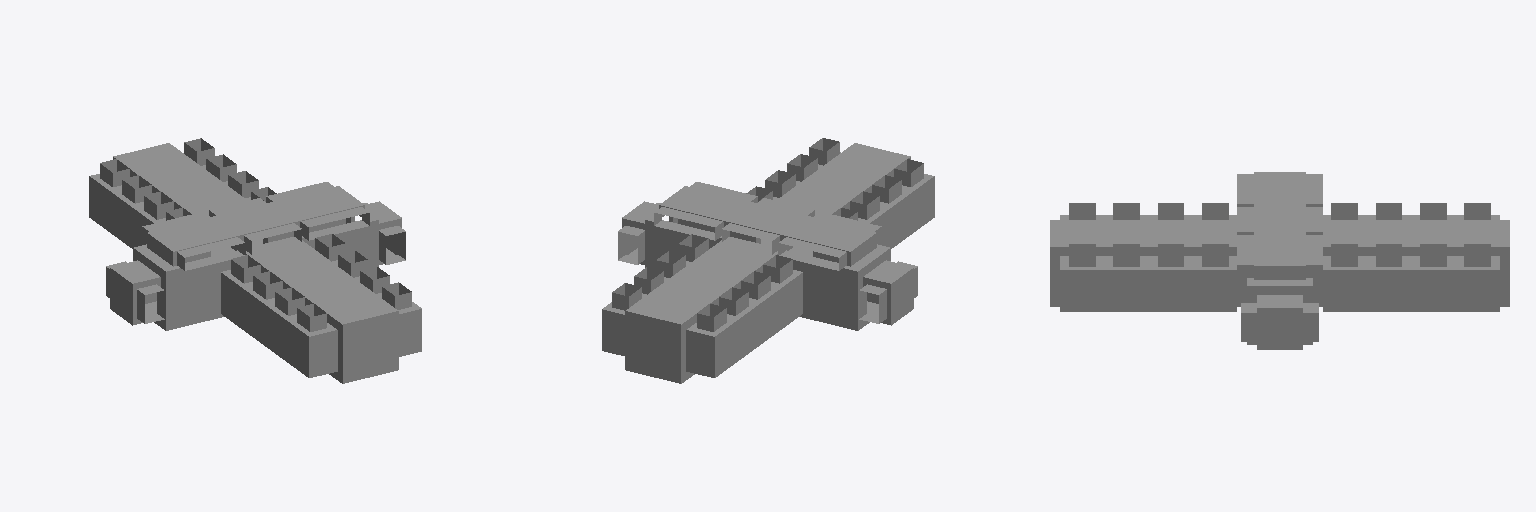
Rendered from hall_collision.obj.
3 renders of one model, left to right at view 1: azimuth 30°, elevation 25°; view 2: azimuth 150°, elevation 25°; view 3: azimuth 270°, elevation 25°, orthographic.
Visible parts, largest first — view 1: hall_collision_Cube.003; view 2: hall_collision_Cube.003; view 3: hall_collision_Cube.003.
Part boxes in pixels (left/top/right/bottom): hall_collision_Cube.003: left=89, top=138, right=421, bottom=383; hall_collision_Cube.003: left=602, top=138, right=934, bottom=383; hall_collision_Cube.003: left=1050, top=172, right=1509, bottom=349.
Size of the model in its own units: 19 by 5 by 28.